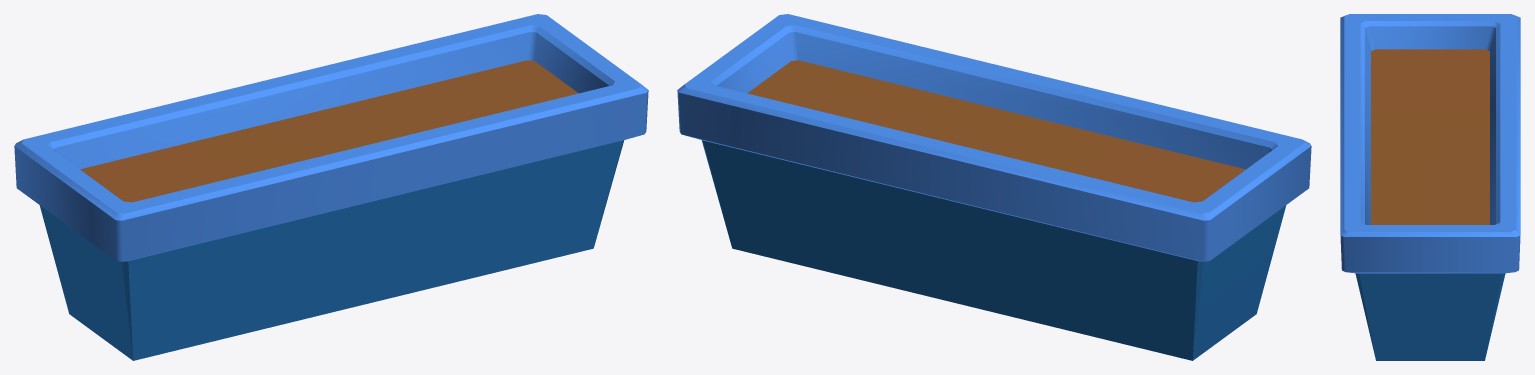
File: PlantPot_3_D.fbx
3 views of the same model, side by side, from view 1: azimuth 30°, elevation 25°; view 2: azimuth 150°, elevation 25°; view 3: azimuth 270°, elevation 25° (orthographic). The views are drawn at different scales.
Visible parts, largest first — view 1: PlantPot_3_D; view 2: PlantPot_3_D; view 3: PlantPot_3_D.
Boxes of the visible parts, x1,y1,x2,y2 form: PlantPot_3_D: (14,14,648,360); PlantPot_3_D: (677,14,1311,360); PlantPot_3_D: (1340,14,1520,360).
Bounding box in the file's own units: 79.88 × 24 × 27.48.
